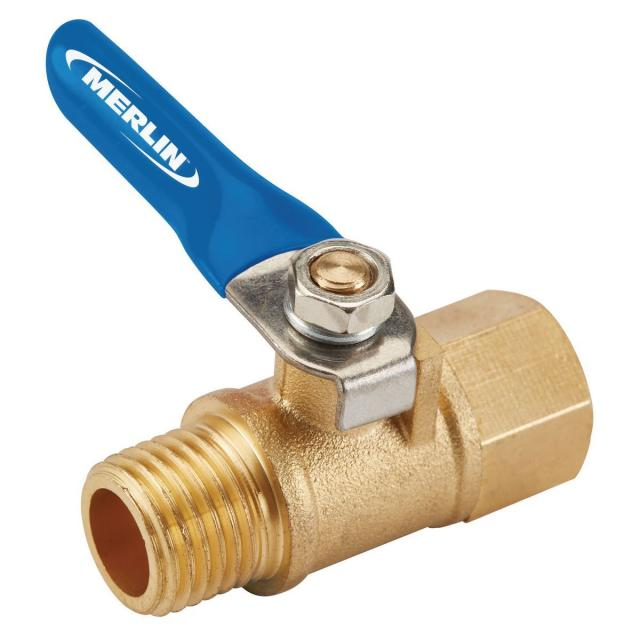Lever Handle Valve Threaded: (38, 9, 494, 423)
